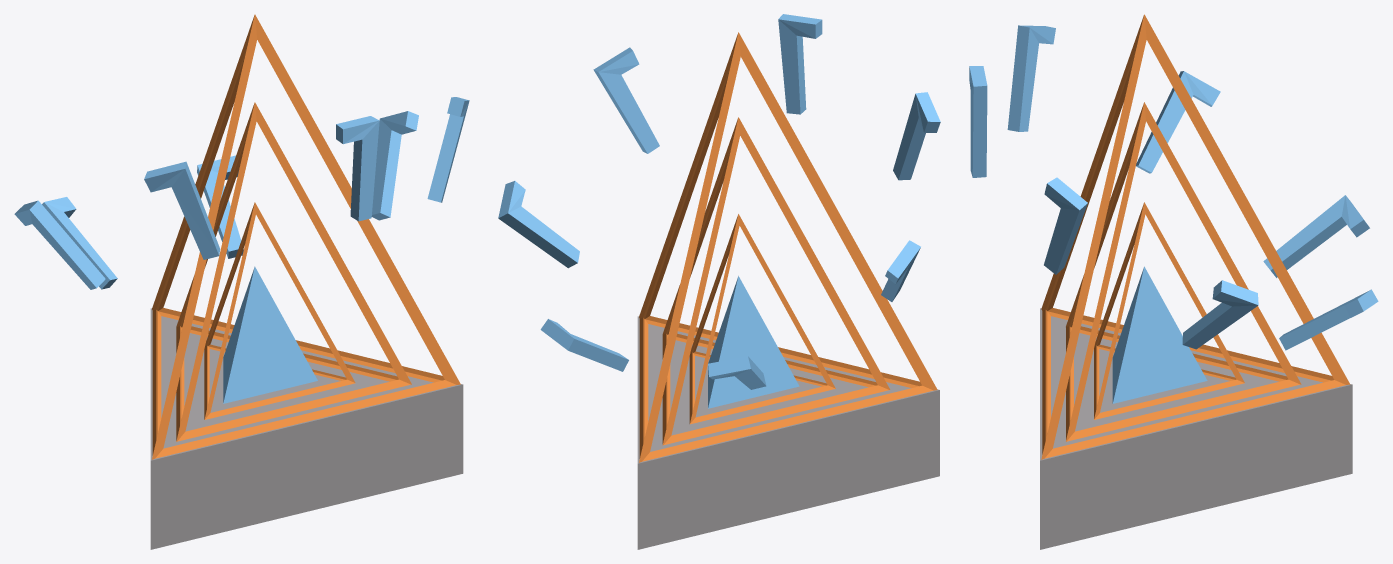
File: cupTria.gltf
3 views of the same model, side by side, from view 1: azimuth 30°, elevation 25°; view 2: azimuth 150°, elevation 25°; view 3: azimuth 270°, elevation 25° (orthographic). The views are drawn at different scales.
Parts seen in each view (by area): view 1: Cone.001, Cone, Text, Cone.002, Cone.004, Cone.003; view 2: Cone.001, Cone, Text, Cone.002, Cone.004, Cone.003; view 3: Cone.001, Cone, Text, Cone.002, Cone.004, Cone.003.
Boxes of the visible parts, x1,y1,x2,y2 form: Cone.001: (150, 308, 463, 549); Cone: (152, 14, 460, 459); Text: (14, 97, 469, 289); Cone.002: (176, 102, 411, 441); Cone.004: (223, 266, 317, 403); Cone.003: (204, 202, 355, 419); Cone.001: (637, 316, 939, 549); Cone: (639, 32, 937, 462); Text: (498, 14, 940, 389); Cone.002: (662, 117, 890, 445); Cone.004: (708, 276, 799, 408); Cone.003: (689, 214, 835, 424); Cone.001: (1040, 308, 1352, 549); Cone: (1041, 14, 1350, 459); Text: (969, 25, 1378, 350); Cone.002: (1066, 102, 1301, 441); Cone.004: (1112, 266, 1207, 403); Cone.003: (1094, 202, 1244, 419).
Size of the model in its own units: 2.36 by 2.53 by 2.04.
